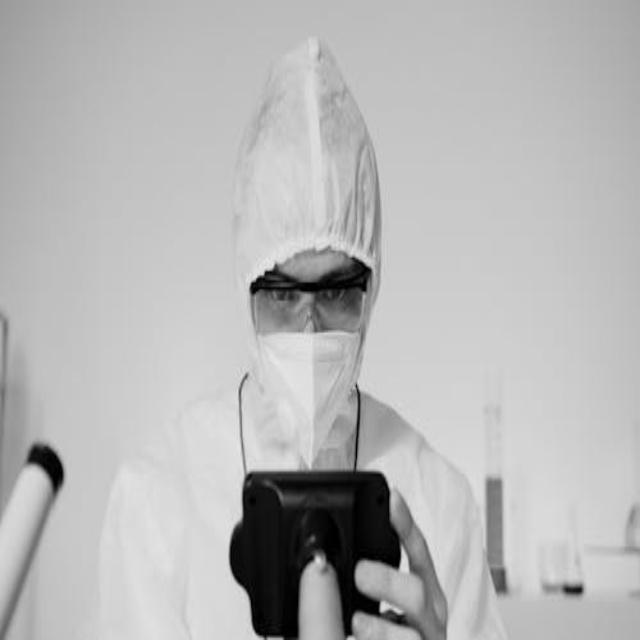Gafas: (249, 265, 372, 337)
Mascara: (246, 324, 365, 473)
Sin_guantes: (346, 485, 453, 635)
